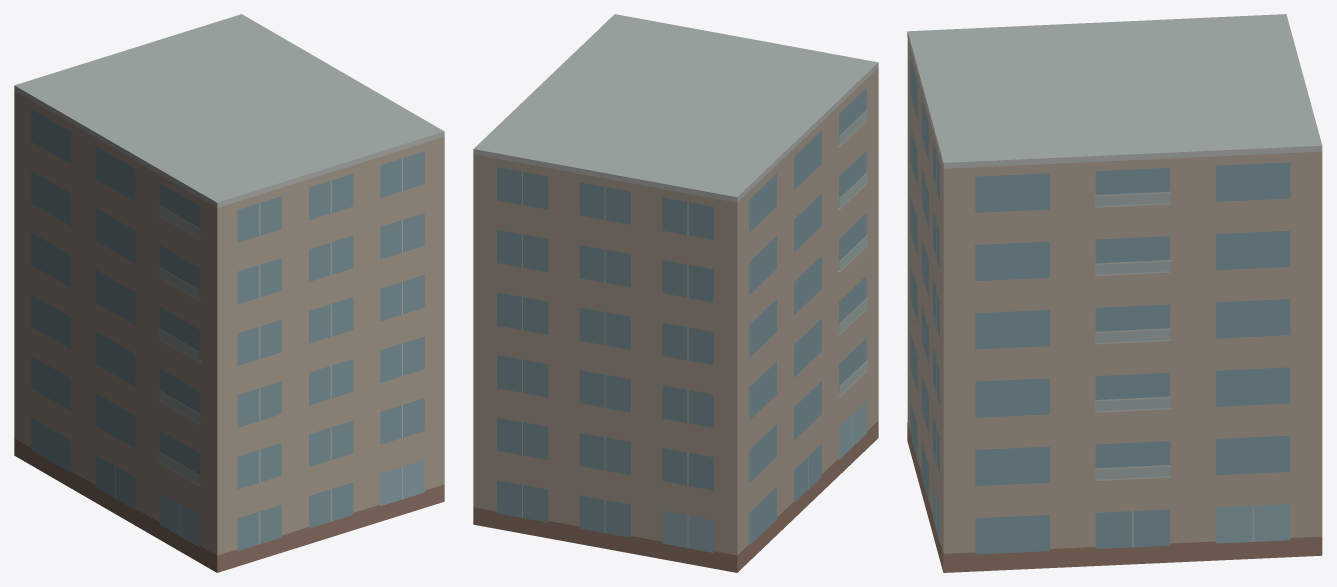
File: survey-upis-32968033.glb
The picture shows the model from 3 angles, left to right: view 1: azimuth 30°, elevation 25°; view 2: azimuth 150°, elevation 25°; view 3: azimuth 270°, elevation 25°; orthographic projection. The views are drawn at different scales.
Visible parts, largest first — view 1: survey-upis-32968033.tmp; view 2: survey-upis-32968033.tmp; view 3: survey-upis-32968033.tmp.
Part boxes in pixels (x1,y1,x2,y2): survey-upis-32968033.tmp: (14, 14, 444, 572); survey-upis-32968033.tmp: (473, 14, 878, 572); survey-upis-32968033.tmp: (907, 14, 1322, 572).
Bounding box in the file's own units: 13.45 × 17.25 × 15.83.
